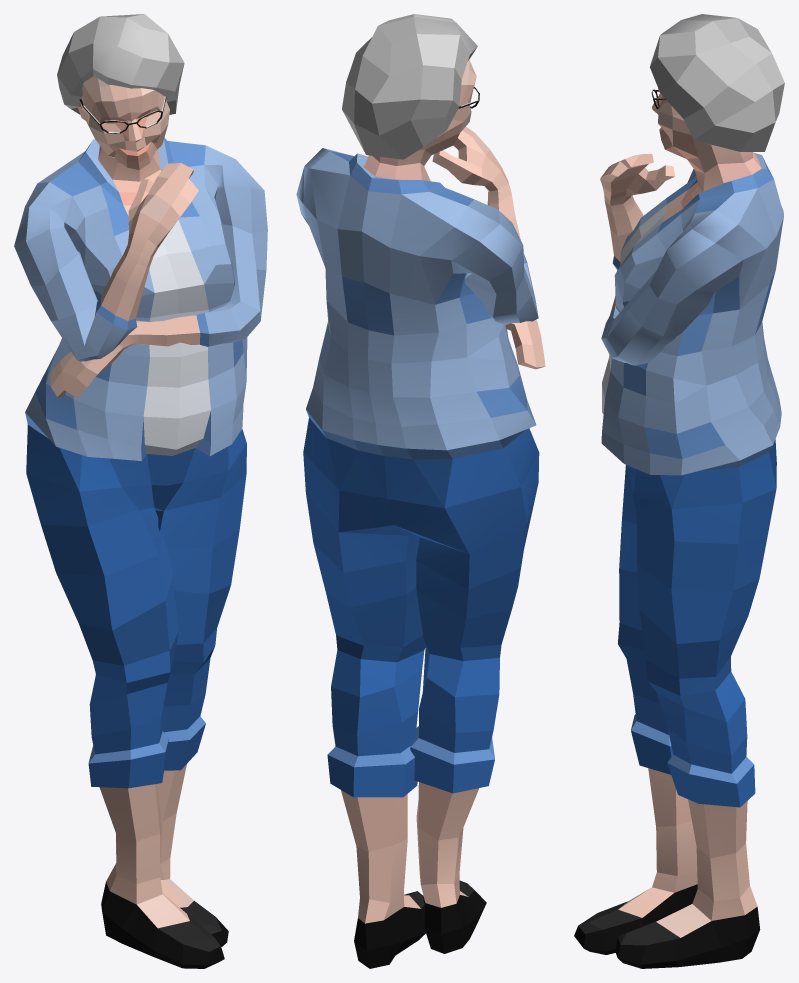
Rendered from older-woman.glb.
3 views of the same model, side by side, from view 1: azimuth 30°, elevation 25°; view 2: azimuth 150°, elevation 25°; view 3: azimuth 270°, elevation 25° (orthographic). The views are drawn at different scales.
Visible parts, largest first — view 1: older-woman; view 2: older-woman; view 3: older-woman.
Part boxes in pixels (x1,y1,x2,y2): older-woman: [14, 14, 267, 968]; older-woman: [296, 14, 545, 968]; older-woman: [574, 14, 784, 968].
Bounding box in the file's own units: 0.4065 × 1.57 × 0.3264.
Materials: 1 (1 with a texture image).
